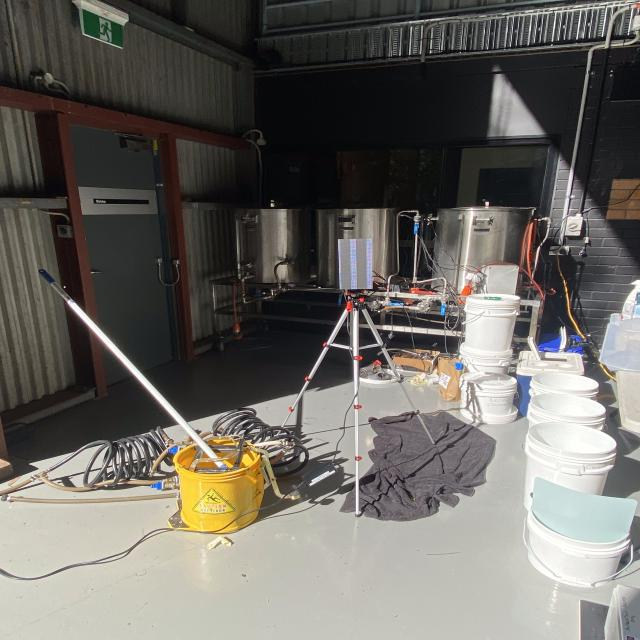matrix: (331, 235, 377, 290)
